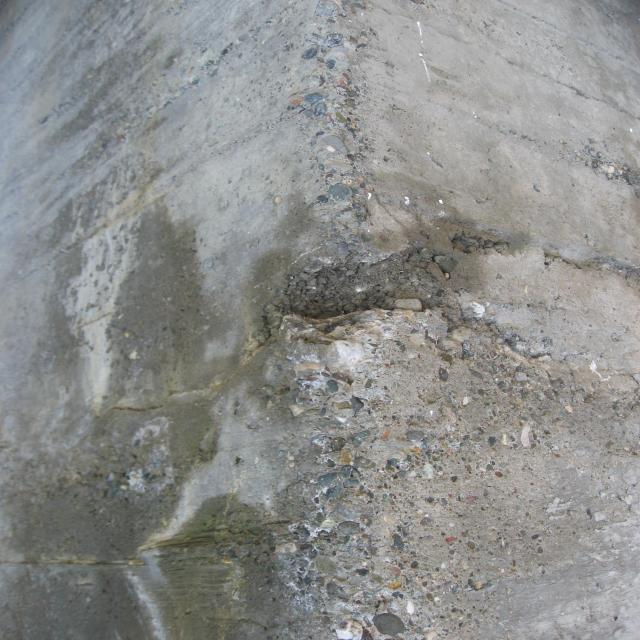concrete spalling: (251, 233, 455, 376)
diagonal crack: (90, 342, 265, 422)
